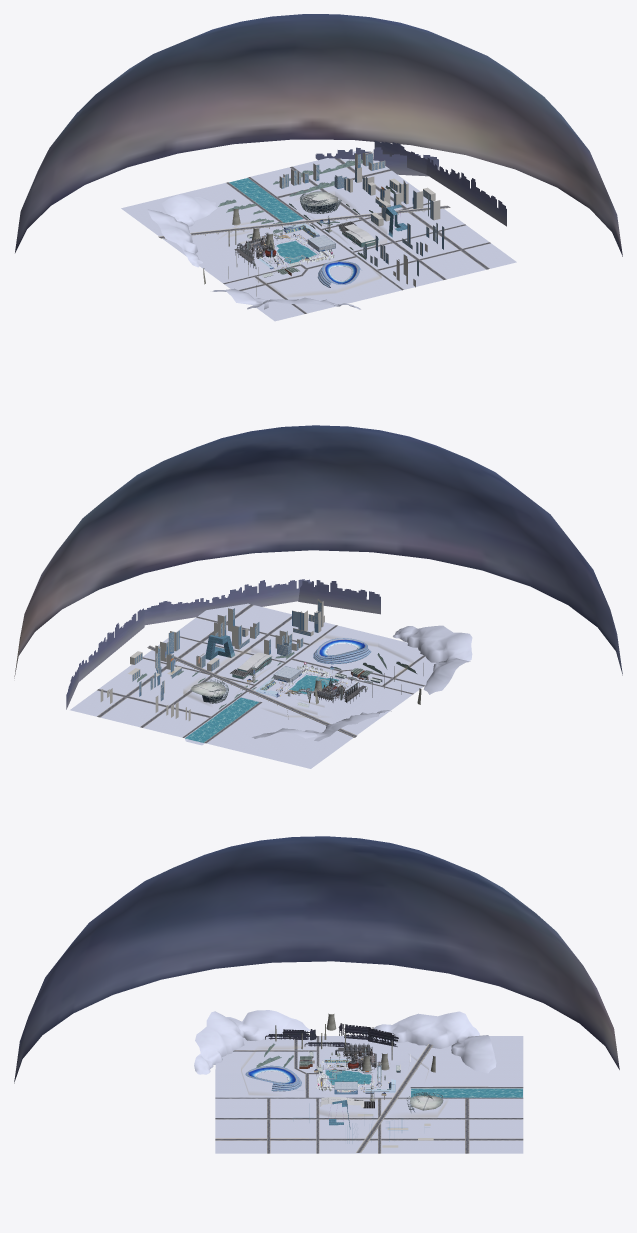
The model's file is track.glb.
The picture shows the model from 3 angles, top to bottom: view 1: azimuth 30°, elevation 25°; view 2: azimuth 150°, elevation 25°; view 3: azimuth 270°, elevation 25°; orthographic projection.
Visible parts, largest first — view 1: sky:E_Winter_Sky_01, E_Winter_Ground_02|lm0, E_Winter_Road_06|lm0, sky:E_Winter_Yuanjing_02, E_Winter_Zhongjing_01|lm1, E_Winter_Zhongjing_02|lm1, E_Winter_Ground_01|lm1, E_Winter_Kantai_02|lm0, E_Winter_Plant_01|lm1, E_Winter_Building_06|lm1, E_Winter_Building_08|lm0, E_Winter_Building_05|lm1; view 2: sky:E_Winter_Sky_01, E_Winter_Ground_02|lm0, sky:E_Winter_Yuanjing_02, E_Winter_Road_06|lm0, E_Winter_Zhongjing_01|lm1, E_Winter_Zhongjing_02|lm1, E_Winter_Ground_01|lm1, E_Winter_Kantai_02|lm0, E_Winter_Building_08|lm0, E_Winter_Building_06|lm1, E_Winter_Building_05|lm1, E_Winter_Lujie_02 (+1 smaller); view 3: sky:E_Winter_Sky_01, E_Winter_Ground_02|lm0, E_Winter_Road_06|lm0, E_Winter_Ground_01|lm1, E_Winter_Building_01a, E_Winter_Building_08|lm0, E_Winter_Yancong_01|lm1, E_Winter_Building_06|lm1.
Part boxes in pixels (left/top/right/bottom): sky:E_Winter_Sky_01: left=15, top=14, right=622, bottom=256; E_Winter_Ground_02|lm0: left=121, top=149, right=516, bottom=321; E_Winter_Road_06|lm0: left=158, top=156, right=490, bottom=313; sky:E_Winter_Yuanjing_02: left=315, top=140, right=506, bottom=226; E_Winter_Zhongjing_01|lm1: left=158, top=151, right=450, bottom=287; E_Winter_Zhongjing_02|lm1: left=282, top=153, right=443, bottom=276; E_Winter_Ground_01|lm1: left=229, top=178, right=316, bottom=263; E_Winter_Kantai_02|lm0: left=282, top=154, right=443, bottom=275; E_Winter_Plant_01|lm1: left=218, top=159, right=394, bottom=261; E_Winter_Building_06|lm1: left=300, top=191, right=341, bottom=213; E_Winter_Building_08|lm0: left=317, top=261, right=361, bottom=287; E_Winter_Building_05|lm1: left=273, top=221, right=375, bottom=263; sky:E_Winter_Sky_01: left=14, top=425, right=622, bottom=678; E_Winter_Ground_02|lm0: left=70, top=603, right=472, bottom=768; sky:E_Winter_Yuanjing_02: left=66, top=579, right=380, bottom=709; E_Winter_Road_06|lm0: left=97, top=604, right=425, bottom=743; E_Winter_Zhongjing_01|lm1: left=100, top=599, right=357, bottom=737; E_Winter_Zhongjing_02|lm1: left=132, top=601, right=321, bottom=700; E_Winter_Ground_01|lm1: left=185, top=675, right=339, bottom=742; E_Winter_Kantai_02|lm0: left=132, top=603, right=332, bottom=700; E_Winter_Building_08|lm0: left=313, top=638, right=371, bottom=664; E_Winter_Building_06|lm1: left=190, top=679, right=228, bottom=703; E_Winter_Building_05|lm1: left=229, top=652, right=342, bottom=688; E_Winter_Lujie_02: left=183, top=636, right=412, bottom=717; sky:E_Winter_Sky_01: left=14, top=836, right=619, bottom=1083; E_Winter_Ground_02|lm0: left=194, top=1010, right=523, bottom=1153; E_Winter_Road_06|lm0: left=215, top=1036, right=523, bottom=1153; E_Winter_Ground_01|lm1: left=325, top=1070, right=522, bottom=1097; E_Winter_Building_01a: left=265, top=1023, right=398, bottom=1046; E_Winter_Building_08|lm0: left=245, top=1065, right=301, bottom=1091; E_Winter_Yancong_01|lm1: left=275, top=1013, right=435, bottom=1072; E_Winter_Building_06|lm1: left=407, top=1092, right=443, bottom=1112.
Size of the model in its own units: 10161 by 4131 by 10161.
49 materials, 49 textured.
